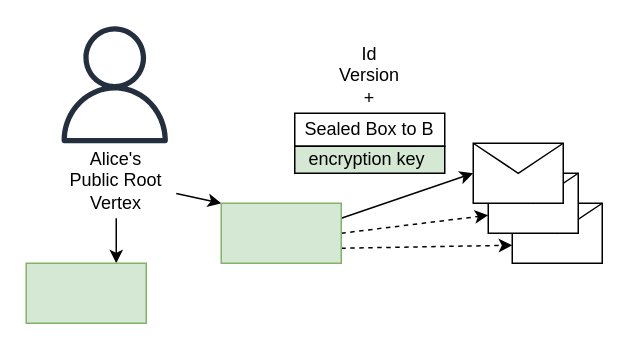
The diagram is 629 pixels wide and 350 high, and some of its shapes have lost their labels. The box of each missing label's shape, as (x1, y1, x2, y2) in pixels:
Inbox: (220, 202, 341, 263)
X25519 Public Key: (25, 262, 146, 323)
